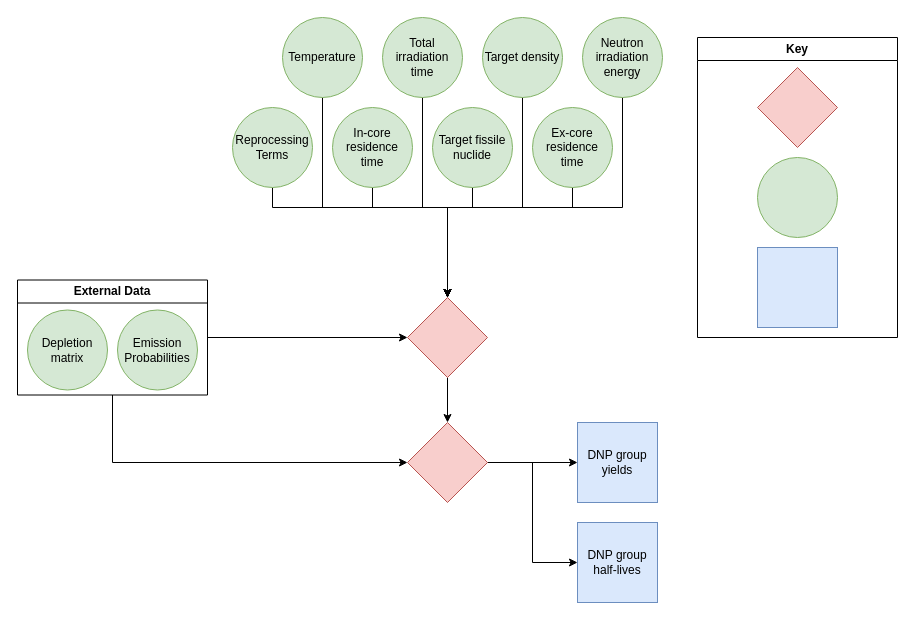
The diagram is 915 pixels wide and 620 high, and some of its shapes have lost their labels. The centre of each missing label's shape, as x and y in pixels:
"Generated output" goes at pixel 797 287.
"Input" goes at pixel 797 197.
"MoSDeN" goes at pixel 447 462.
"OpenMC" goes at pixel 447 337.
"Software" goes at pixel 797 107.
